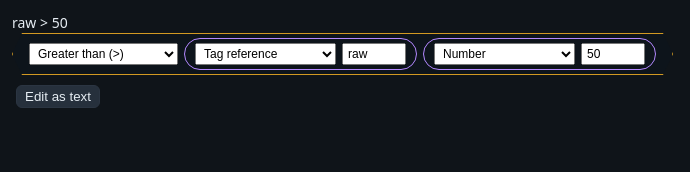
Test: ExprTreeEditor › editing a number leaf's value updates the serialized expr
Replace the text in the number field showing "50" with "75" at (613, 54), box [581,43,645,65]
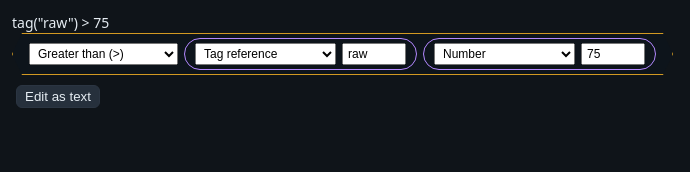
expect the text with test id "current-value" reads "tag(\"raw\") > 75": met, box [12,13,109,32]
